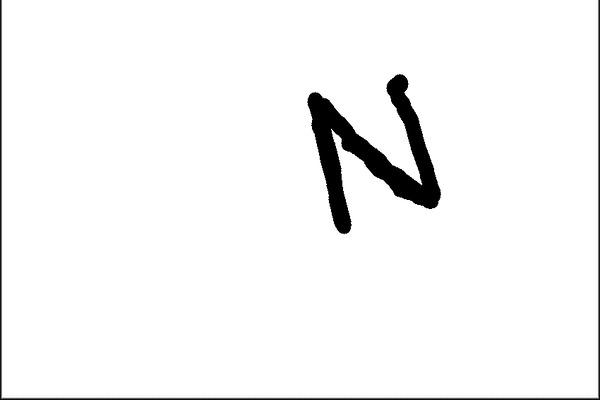N: (297, 70, 444, 236)
